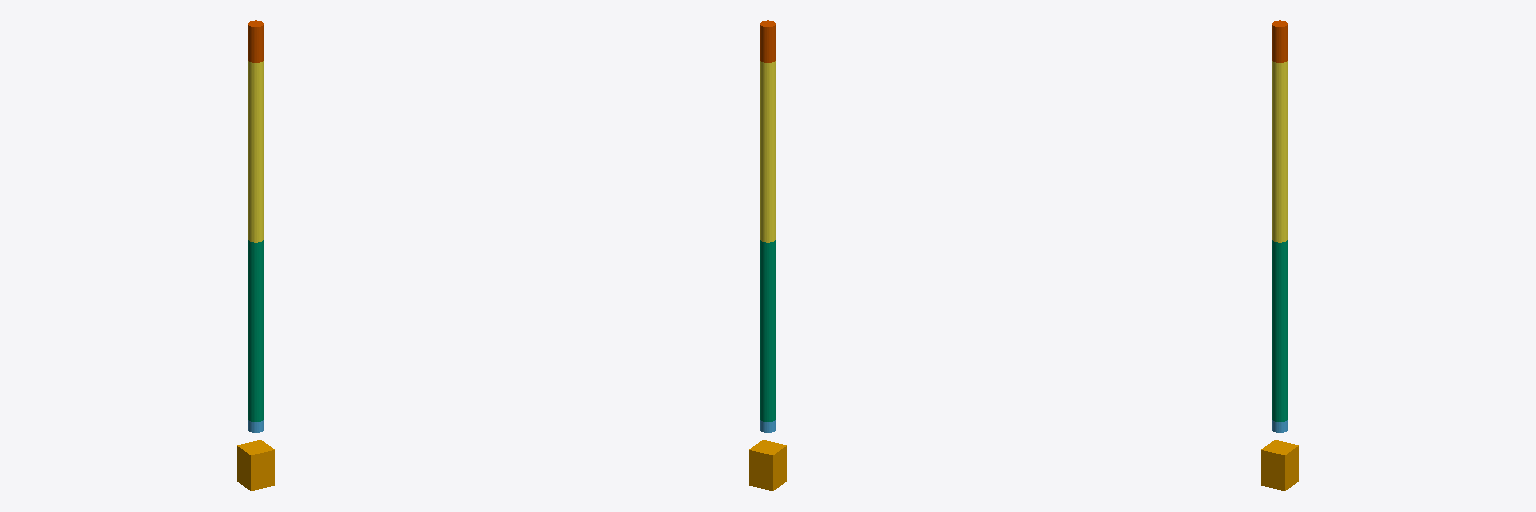
URDF robot description (optimized_complex_robot):
<?xml version="1.0"?>
<robot name="optimized_complex_robot">

    <!-- Base Link -->
    <link name="base">
        <visual>
            <geometry>
                <box size="0.07 0.07 0.1"/>  <!-- Base size 70mm x 70mm x 100mm -->
            </geometry>
        </visual>
    </link>

    <!-- Link 1 (30mm) -->
    <link name="link1">
        <visual>
            <geometry>
                <cylinder radius="0.02" length="0.03"/> <!-- Length is 30mm -->
            </geometry>
            <origin xyz="0 0 0.015" rpy="0 0 0"/>  <!-- Origin is centered along the length -->
        </visual>
    </link>

    <!-- Joint 1 - Allows 360 degree rotation around Z-axis -->
    <joint name="joint1" type="revolute">
        <parent link="base"/>
        <child link="link1"/>
        <origin xyz="0 0 0.1" rpy="0 0 0"/> <!-- Origin for rotation, placed 100mm above the base -->
        <axis xyz="0 0 1"/>
        <limit lower="-3.14159" upper="3.14159" effort="1000" velocity="1.0"/>
    </joint>

    <!-- Link 2 (500mm) -->
    <link name="link2">
        <visual>
            <geometry>
                <cylinder radius="0.02" length="0.5"/> <!-- Length is 500mm -->
            </geometry>
            <origin xyz="0 0 0.25" rpy="0 0 0"/>  <!-- Origin is centered along the length -->
        </visual>
    </link>

    <!-- Joint 2 - Allows rotation around Y-axis -->
    <joint name="joint2" type="revolute">
        <parent link="link1"/>
        <child link="link2"/>
        <origin xyz="0 0 0.03" rpy="0 0 0"/> <!-- Placed at the end of Link 1 -->
        <axis xyz="0 1 0"/>
        <limit lower="-1.5708" upper="1.5708" effort="1000" velocity="1.0"/>
    </joint>

    <!-- Link 3 (500mm) -->
    <link name="link3">
        <visual>
            <geometry>
                <cylinder radius="0.02" length="0.5"/> <!-- Length is 500mm -->
            </geometry>
            <origin xyz="0 0 0.25" rpy="0 0 0"/>  <!-- Origin is centered along the length -->
        </visual>
    </link>

    <!-- Joint 3 - Allows rotation around Y-axis -->
    <joint name="joint3" type="revolute">
        <parent link="link2"/>
        <child link="link3"/>
        <origin xyz="0 0 0.5" rpy="0 0 0"/> <!-- Placed at the end of Link 2 -->
        <axis xyz="0 1 0"/>
        <limit lower="-1.5708" upper="1.5708" effort="1000" velocity="1.0"/>
    </joint>

    <!-- Link 4 (0mm) -->
    <link name="link4">
        <visual>
            <geometry>
                <cylinder radius="0.02" length="0"/> <!-- No length specified -->
            </geometry>
            <origin xyz="0 0 0" rpy="0 0 0"/>  <!-- Positioned at the joint -->
        </visual>
    </link>

    <!-- Joint 4 - Allows rotation around Y-axis -->
    <joint name="joint4" type="revolute">
        <parent link="link3"/>
        <child link="link4"/>
        <origin xyz="0 0 0.5" rpy="0 0 0"/> <!-- Placed at the end of Link 3 -->
        <axis xyz="0 1 0"/>
        <limit lower="-1.5708" upper="1.5708" effort="1000" velocity="1.0"/>
    </joint>

    <!-- Link 5 (100mm) -->
    <link name="link5">
        <visual>
            <geometry>
                <cylinder radius="0.02" length="0.1"/> <!-- Length is 100mm -->
            </geometry>
            <origin xyz="0 0 0.05" rpy="0 0 0"/>  <!-- Origin is centered along the length -->
        </visual>
    </link>

    <!-- Joint 5 - Allows rotation around Y-axis -->
    <joint name="joint5" type="revolute">
        <parent link="link4"/>
        <child link="link5"/>
        <origin xyz="0 0 0" rpy="0 0 0"/> <!-- Placed directly at the end of Link 4 -->
        <axis xyz="0 0 1"/>
        <limit lower="-1.5708" upper="1.5708" effort="1000" velocity="1.0"/>
    </joint>

</robot>

--- Render facts (derived) ---
3 views of the same robot in one strip: view 1: azimuth 30°, elevation 25°; view 2: azimuth 150°, elevation 25°; view 3: azimuth 330°, elevation 25° (orthographic).
Robot: optimized_complex_robot — 6 links, 5 joints (5 revolute); root link base; default pose: every joint at zero.
Links seen in each view (by area): view 1: link2, link3, base, link5; view 2: link2, link3, base, link5; view 3: link2, link3, base, link5.
Boxes of the visible links, <box> form: link2: <box>248,240,263,421</box>; link3: <box>248,61,263,242</box>; base: <box>237,440,274,490</box>; link5: <box>248,20,263,62</box>; link2: <box>760,240,775,421</box>; link3: <box>760,61,775,242</box>; base: <box>749,440,786,490</box>; link5: <box>760,20,775,62</box>; link2: <box>1272,240,1287,421</box>; link3: <box>1272,61,1287,242</box>; base: <box>1261,440,1298,490</box>; link5: <box>1272,20,1287,62</box>.
Bounding box of the posed robot: 0.07 × 0.07 × 1.28 m (x, y, z).
Geometry: primitives only (box / cylinder / sphere), no mesh files.
